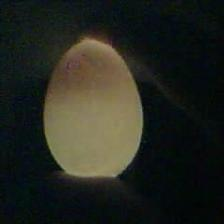infertile: (41, 35, 145, 180)
